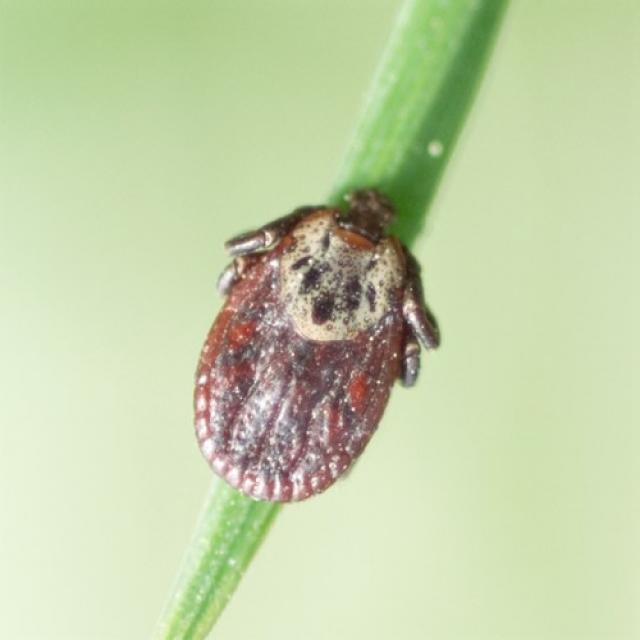Dermacentor Reticulatus-F: (192, 186, 442, 502)
